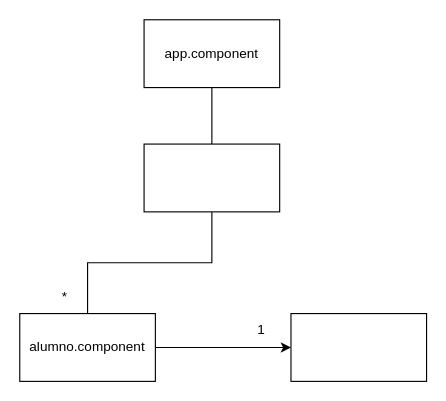
This 446x401 diagram has some shape labels left out. Each missing label, with the centre of its shape:
"content.component" goes at [211,177].
"curso.component" goes at [358,346].
